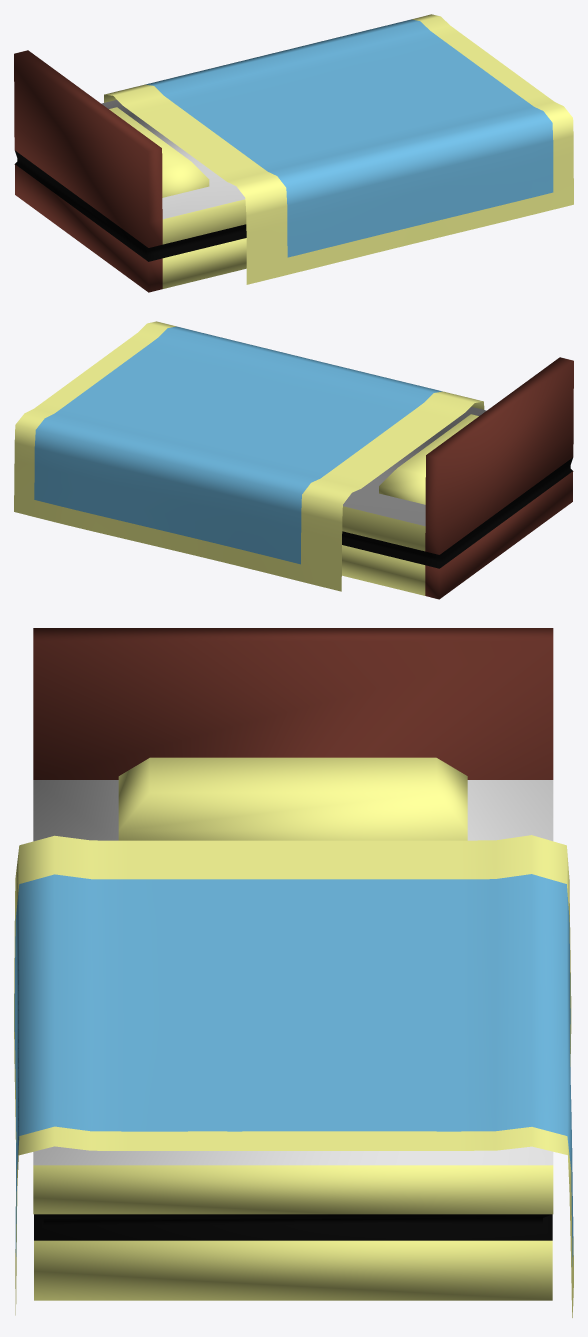
File: NormalBed3.fbx
3 renders of one model, top to bottom at view 1: azimuth 30°, elevation 25°; view 2: azimuth 150°, elevation 25°; view 3: azimuth 270°, elevation 25°, orthographic. The views are drawn at different scales.
Visible parts, largest first — view 1: Plane, Cube; view 2: Plane, Cube; view 3: Cube, Plane.
Part boxes in pixels (left/top/right/bottom): Plane: left=104, top=14, right=573, bottom=284; Cube: left=14, top=50, right=246, bottom=292; Plane: left=14, top=321, right=484, bottom=591; Cube: left=342, top=357, right=573, bottom=599; Cube: left=33, top=628, right=553, bottom=1300; Plane: left=14, top=835, right=573, bottom=1317.
Size of the model in its own units: 206 by 122 by 71.19.
